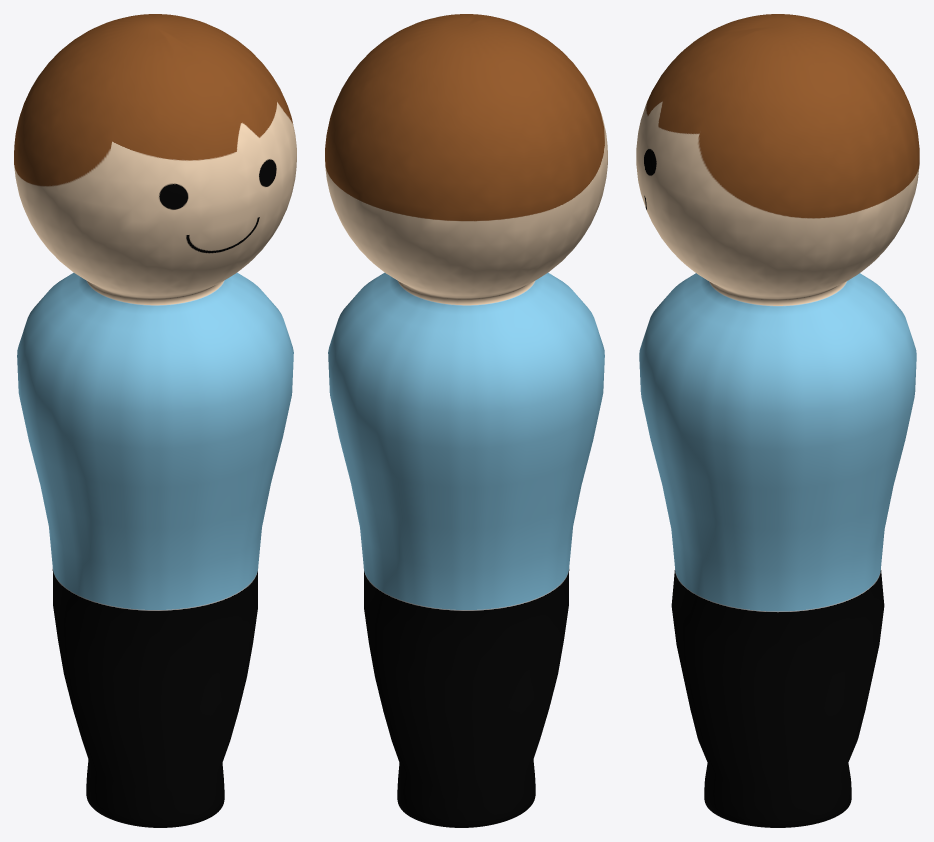
File: MaleDummyFBX.fbx
3 views of the same model, side by side, from view 1: azimuth 30°, elevation 25°; view 2: azimuth 150°, elevation 25°; view 3: azimuth 270°, elevation 25° (orthographic).
Visible parts, largest first — view 1: Mesh; view 2: Mesh; view 3: Mesh.
Boxes of the visible parts, x1,y1,x2,y2 form: Mesh: (14, 14, 296, 827); Mesh: (325, 14, 607, 827); Mesh: (636, 14, 919, 827).
Size of the model in its own units: 5.92 by 17.8 by 5.92.
1 material, 1 textured.
